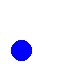circle: (11, 40, 31, 60)
